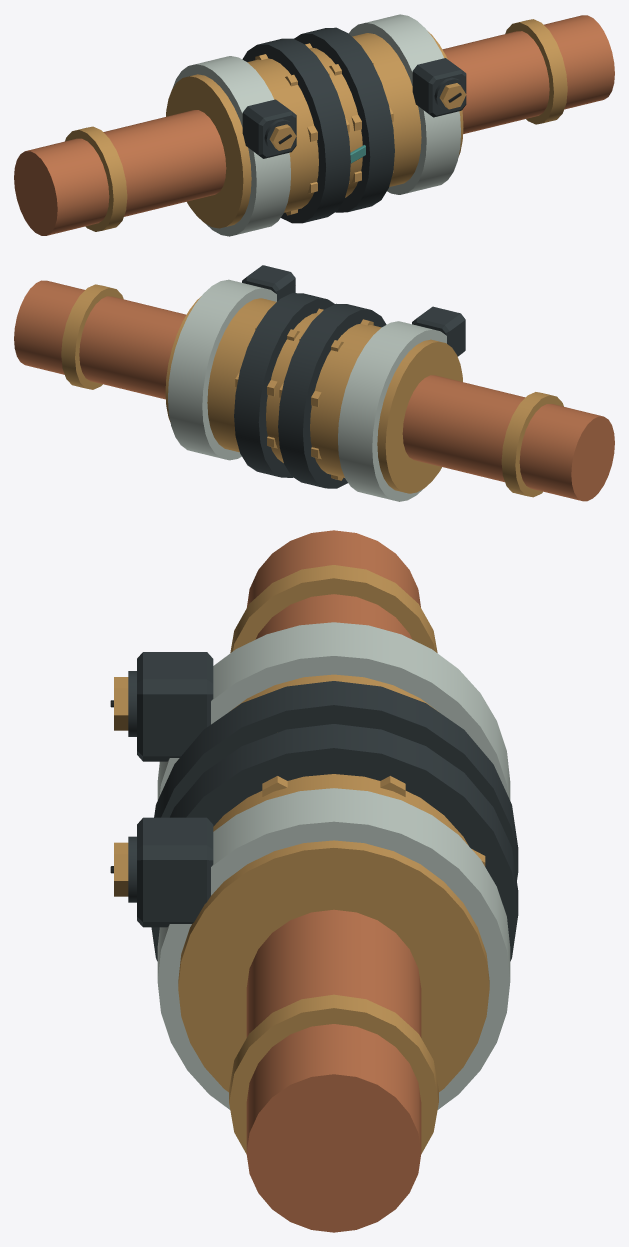
File: coolant-repaired.glb
The picture shows the model from 3 angles, top to bottom: view 1: azimuth 30°, elevation 25°; view 2: azimuth 150°, elevation 25°; view 3: azimuth 270°, elevation 25°; orthographic projection. The views are drawn at different scales.
Visible parts, largest first — view 1: RB_coolant_repaired; view 2: RB_coolant_repaired; view 3: RB_coolant_repaired.
Boxes of the visible parts, <box> form: RB_coolant_repaired: <box>14,14,614,236</box>; RB_coolant_repaired: <box>14,265,614,501</box>; RB_coolant_repaired: <box>110,530,518,1232</box>.
Size of the model in its own units: 0.81 by 0.232 by 0.2565.
